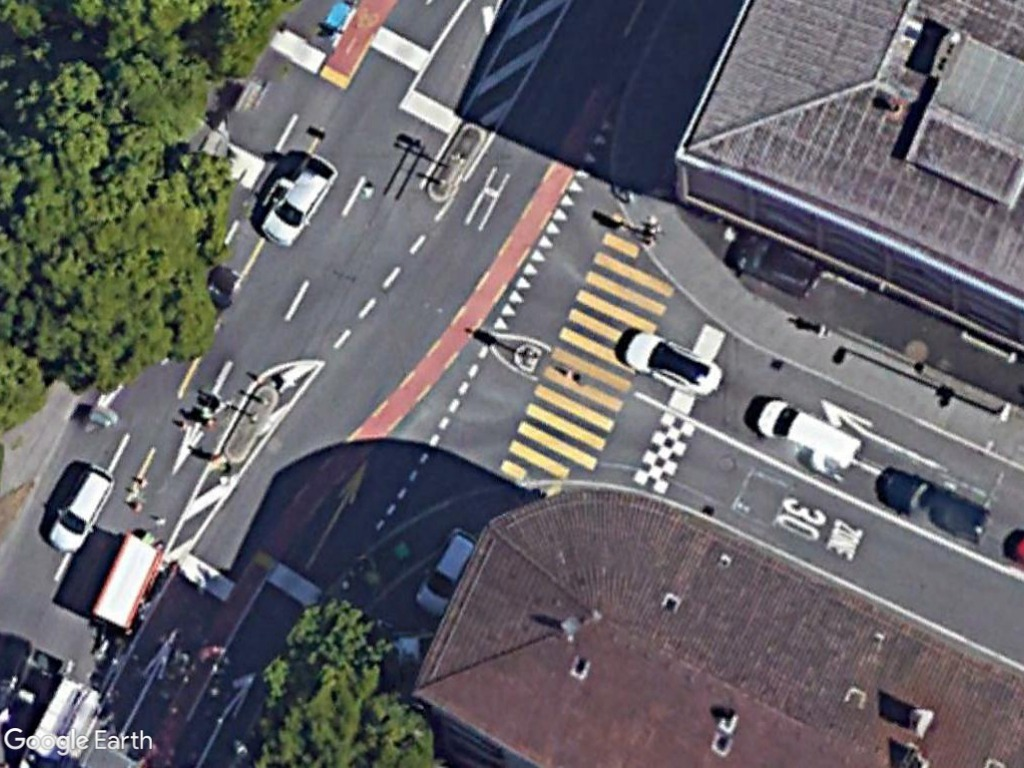car: (755, 393, 863, 472), (257, 153, 338, 249), (616, 330, 725, 399), (45, 461, 117, 557)
